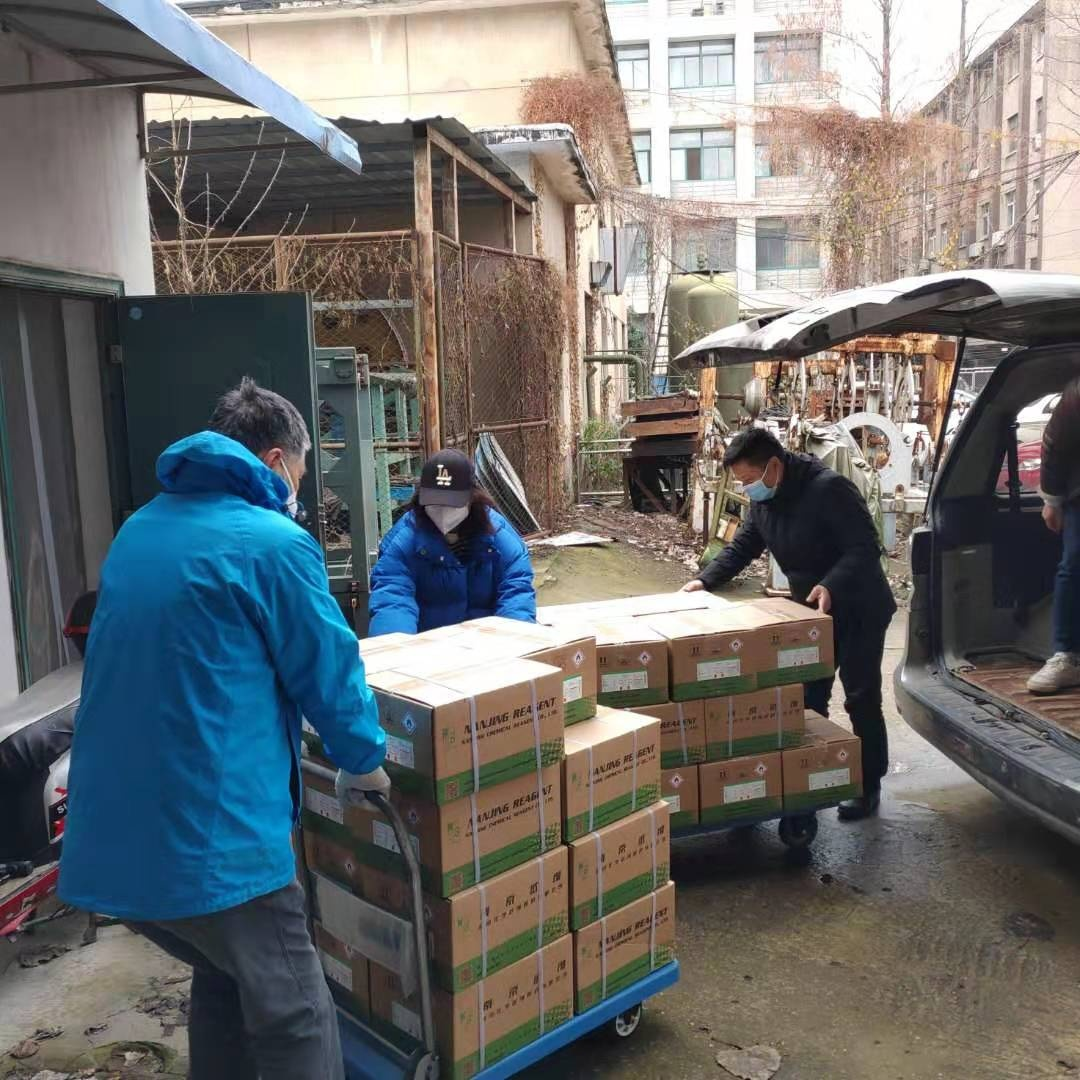correctlyWear: (259, 431, 309, 521), (733, 455, 783, 505), (422, 497, 470, 537)
